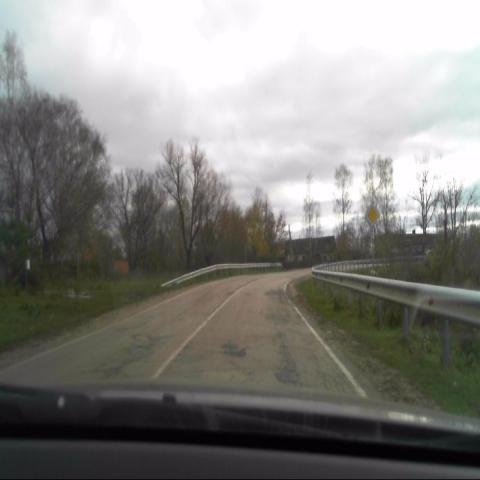2_1: (364, 202, 380, 229)
